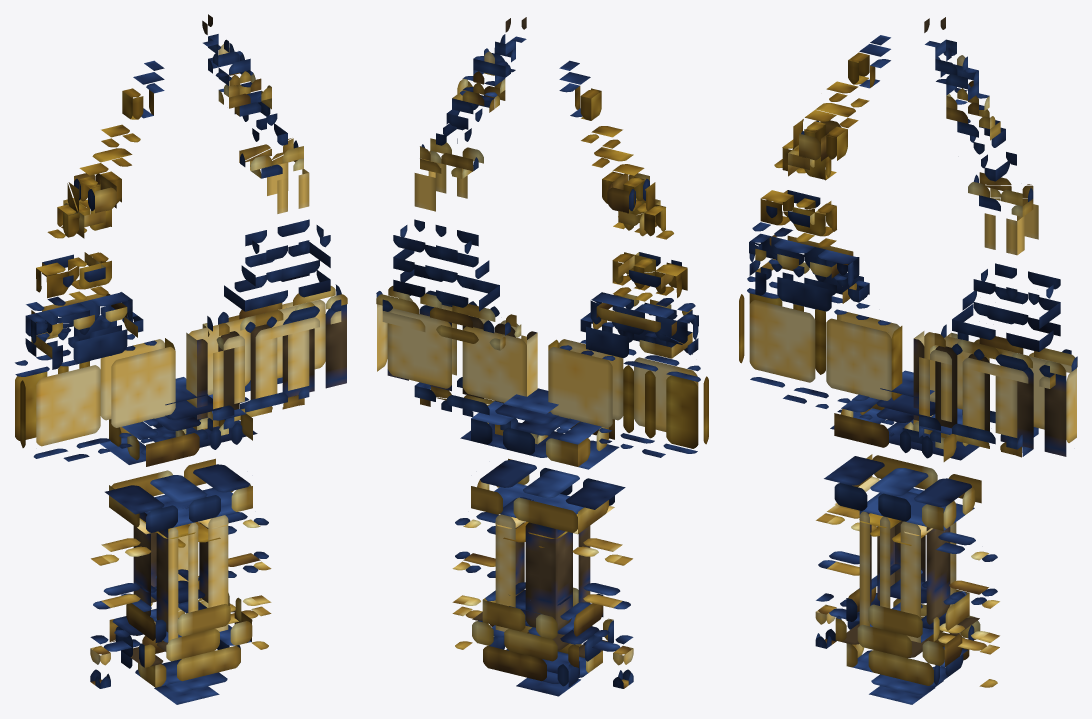
Rendered from scarab_fang.obj.
The picture shows the model from 3 angles, left to right: view 1: azimuth 30°, elevation 25°; view 2: azimuth 150°, elevation 25°; view 3: azimuth 330°, elevation 25°; orthographic projection.
Parts seen in each view (by area): view 1: lit; view 2: lit; view 3: lit.
Boxes of the visible parts, x1,y1,x2,y2 form: lit: (15, 14, 347, 704); lit: (376, 17, 708, 696); lit: (739, 17, 1077, 704).
Size of the model in its own units: 0.9375 by 1.84 by 0.1875.
